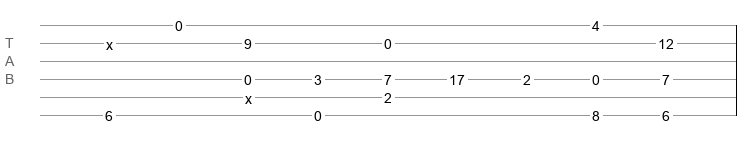0: (175, 18, 183, 28), (244, 72, 252, 82), (314, 108, 322, 118), (384, 36, 392, 46), (592, 72, 600, 82)
12: (658, 36, 674, 46)
17: (449, 72, 465, 82)
2: (384, 90, 392, 100), (523, 72, 531, 82)
3: (314, 72, 322, 82)
4: (592, 18, 600, 28)
6: (105, 108, 113, 118), (662, 108, 670, 118)
7: (384, 72, 392, 82), (662, 72, 670, 82)
8: (592, 108, 600, 118)
9: (244, 36, 252, 46)
x: (106, 37, 113, 45), (245, 91, 252, 99)
